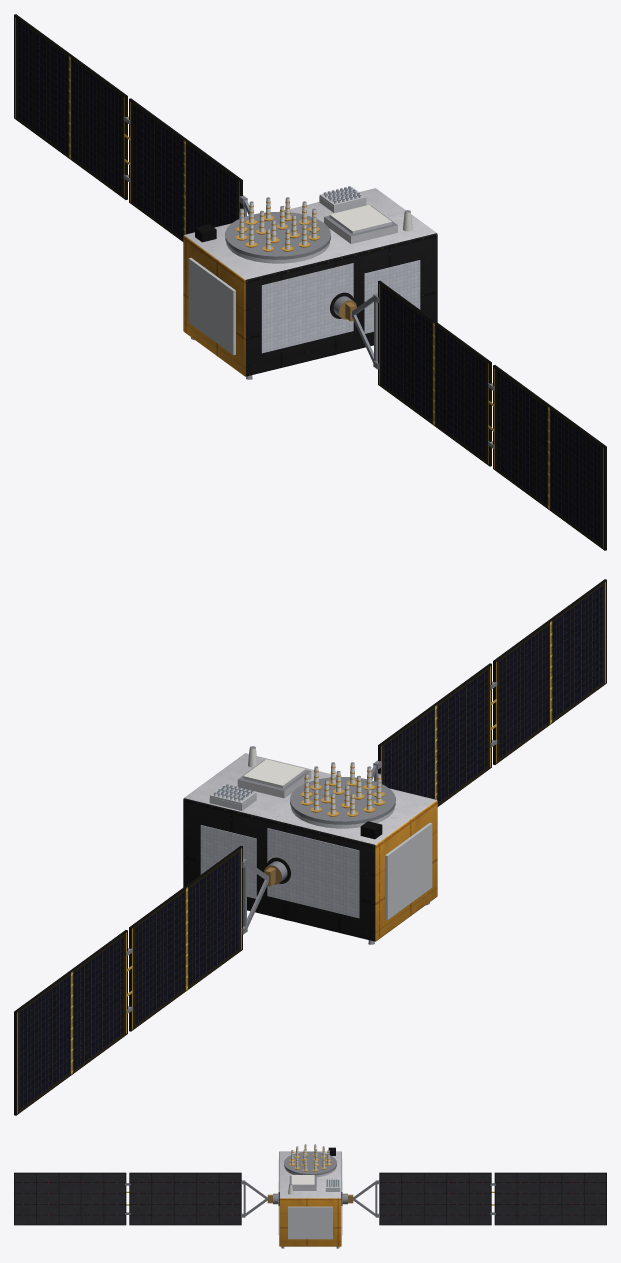
The model's file is bds3-meo-secm.glb.
3 renders of one model, top to bottom at view 1: azimuth 30°, elevation 25°; view 2: azimuth 150°, elevation 25°; view 3: azimuth 270°, elevation 25°, orthographic. The views are drawn at different scales.
Visible parts, largest first — view 1: bus, wing-Y, wing+Y, nadir_payload_deck; view 2: bus, wing+Y, wing-Y, nadir_payload_deck; view 3: wing+Y, wing-Y, bus, nadir_payload_deck.
Boxes of the visible parts, x1,y1,x2,y2 form: bus: [183, 188, 437, 376]; wing-Y: [345, 280, 606, 550]; wing+Y: [14, 14, 249, 241]; nadir_payload_deck: [195, 186, 412, 263]; bus: [183, 753, 437, 941]; wing+Y: [14, 845, 275, 1115]; wing-Y: [371, 579, 606, 806]; nadir_payload_deck: [209, 746, 395, 839]; wing+Y: [348, 1172, 606, 1225]; wing-Y: [14, 1172, 272, 1225]; bus: [278, 1151, 342, 1246]; nadir_payload_deck: [284, 1144, 340, 1194].
Bounding box in the file's own units: 2.21 × 1.4 × 11.36.
Materials: 17 (6 with a texture image).
